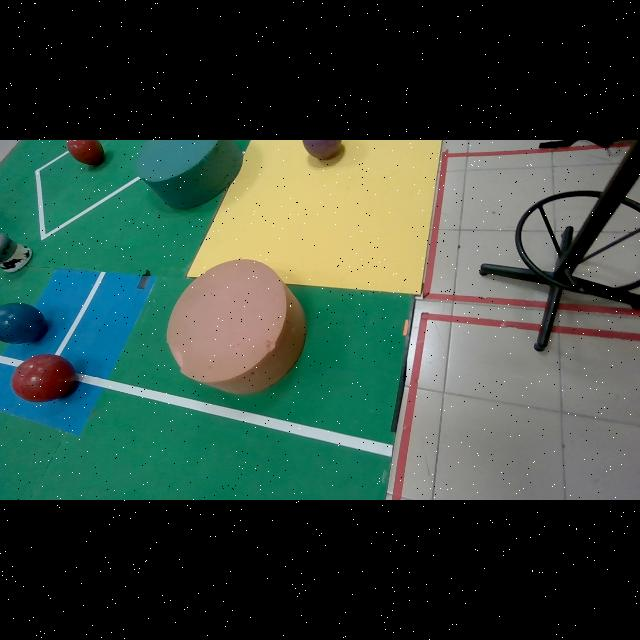B: (0, 303, 47, 343)
P: (302, 140, 341, 159)
R: (12, 354, 76, 402), (67, 140, 105, 166)
